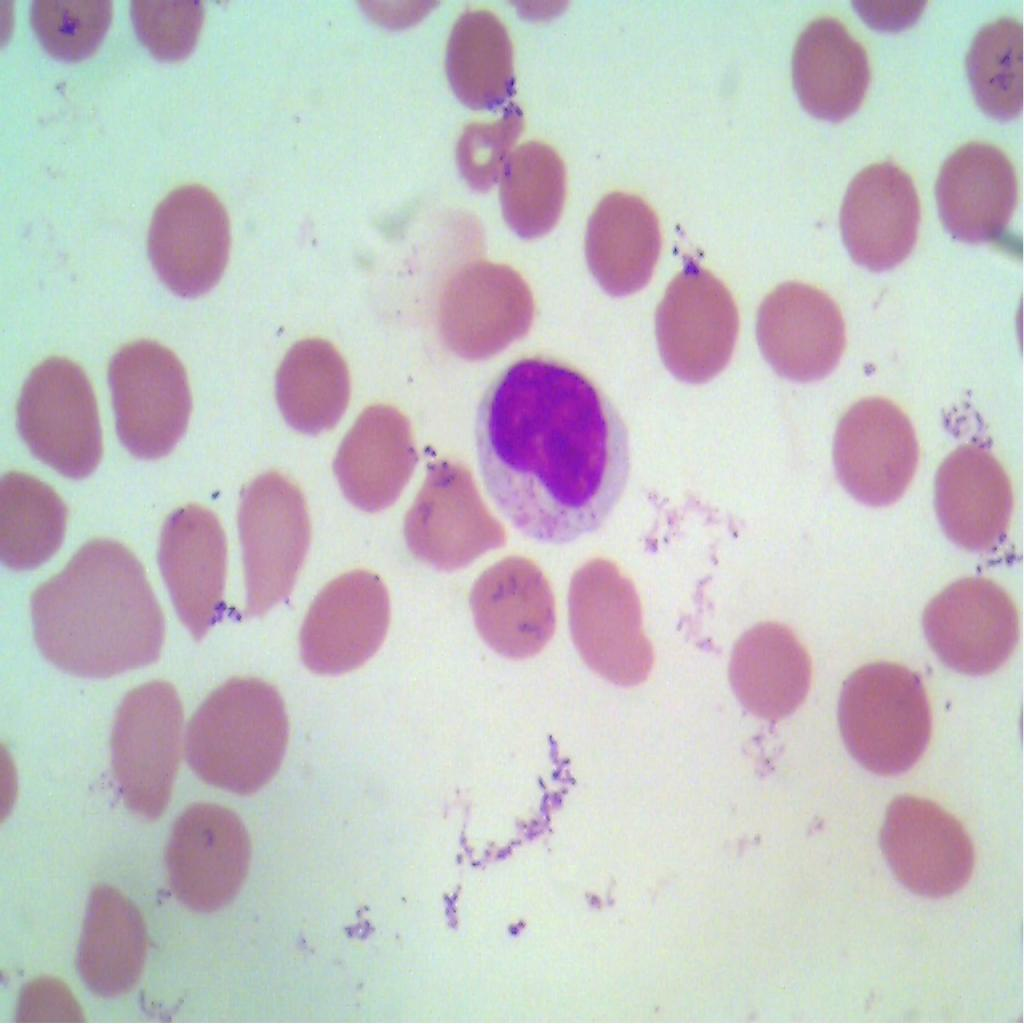Eritrosit: (28, 536, 166, 678), (6, 344, 113, 488), (562, 541, 666, 688), (462, 541, 578, 668), (883, 784, 988, 924), (183, 660, 291, 792), (158, 791, 262, 925), (296, 559, 401, 687), (104, 335, 198, 474), (136, 168, 236, 298), (149, 488, 230, 648), (713, 607, 816, 732), (233, 461, 310, 621), (399, 448, 499, 571), (754, 261, 854, 384), (654, 257, 742, 394), (916, 568, 1023, 680), (326, 397, 420, 524), (934, 127, 1023, 258), (261, 321, 355, 445), (110, 669, 184, 821), (841, 655, 935, 774), (831, 154, 928, 268), (935, 428, 1023, 550), (68, 874, 154, 997), (575, 171, 661, 294), (829, 397, 918, 514), (791, 14, 878, 130), (438, 4, 532, 111), (446, 255, 535, 364), (490, 130, 570, 237), (0, 464, 74, 571), (455, 108, 535, 192)
Limfosit: (468, 358, 633, 552)
